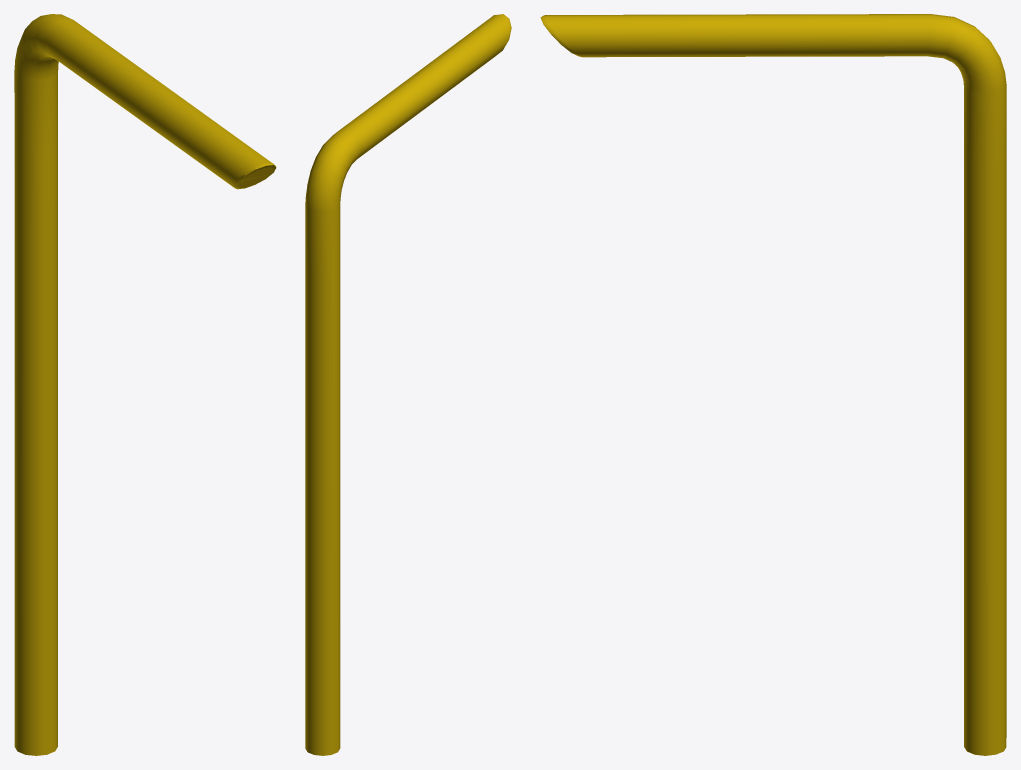
Rendered from original_11.obj.
3 renders of one model, left to right at view 1: azimuth 30°, elevation 25°; view 2: azimuth 150°, elevation 25°; view 3: azimuth 270°, elevation 25°, orthographic. The views are drawn at different scales.
Visible parts, largest first — view 1: instance_3/Component_2/ID140#ID140; view 2: instance_3/Component_2/ID140#ID140; view 3: instance_3/Component_2/ID140#ID140.
Part boxes in pixels (<box>): instance_3/Component_2/ID140#ID140: <box>14,14,276,755</box>; instance_3/Component_2/ID140#ID140: <box>305,14,511,755</box>; instance_3/Component_2/ID140#ID140: <box>540,14,1006,755</box>.
Bounding box in the file's own units: 0.0536 × 0.9509 × 0.5494.
